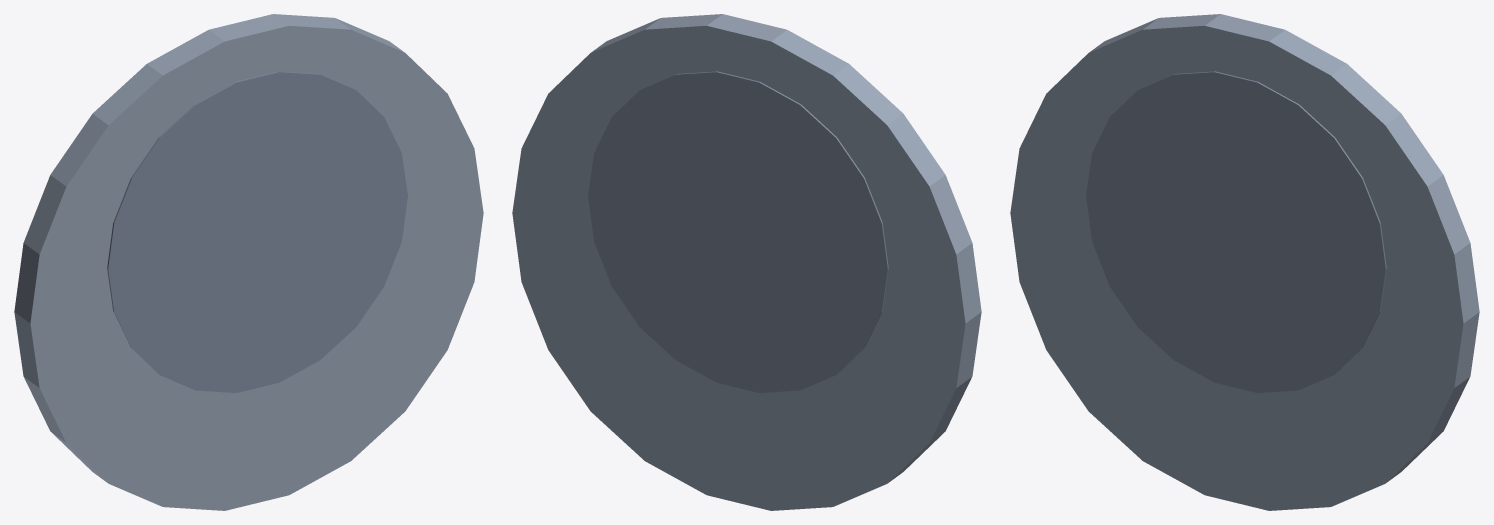
File: vortex_ring.glb
The picture shows the model from 3 angles, left to right: view 1: azimuth 30°, elevation 25°; view 2: azimuth 150°, elevation 25°; view 3: azimuth 330°, elevation 25°; orthographic projection.
Visible parts, largest first — view 1: world; view 2: world; view 3: world.
Part boxes in pixels (x1=…): world: x1=14, y1=14, x2=483, y2=510; world: x1=512, y1=14, x2=981, y2=510; world: x1=1010, y1=14, x2=1479, y2=510.
Bounding box in the file's own units: 2.6 × 2.57 × 0.18.
